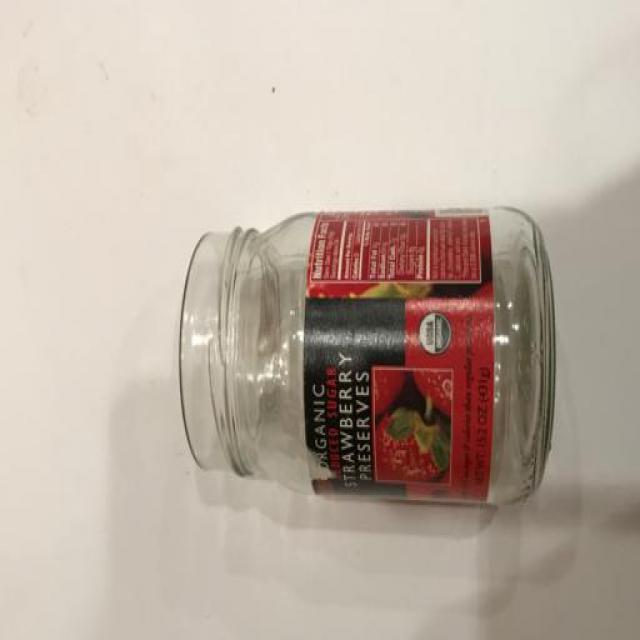glass: (156, 190, 640, 550)
